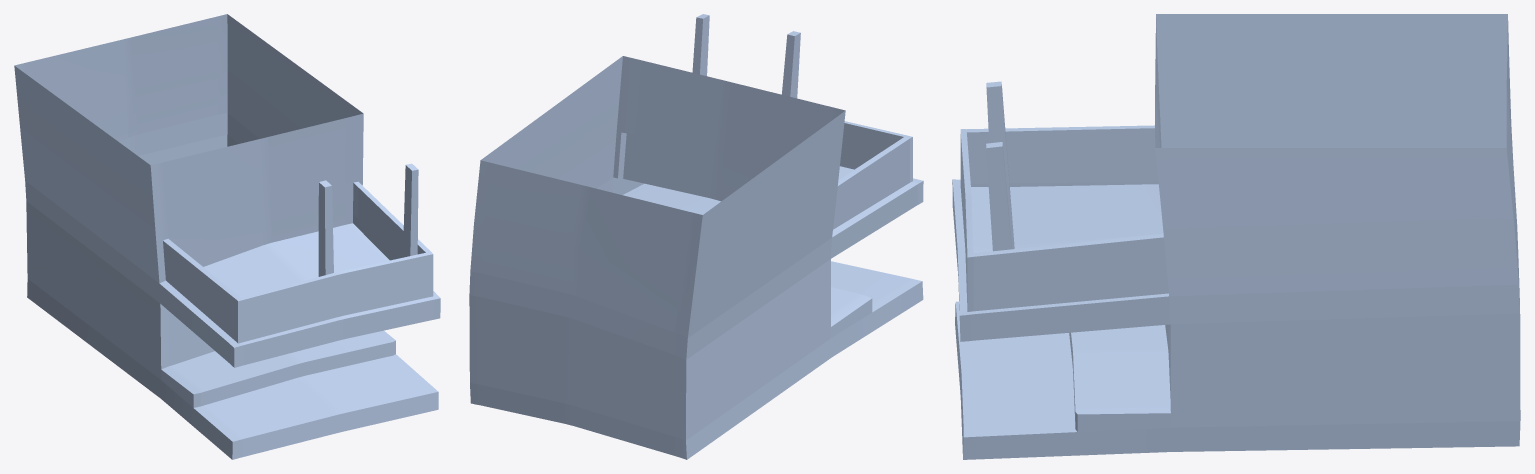
File: building 2.fbx
The picture shows the model from 3 angles, left to right: view 1: azimuth 30°, elevation 25°; view 2: azimuth 150°, elevation 25°; view 3: azimuth 270°, elevation 25°; orthographic projection. The views are drawn at different scales.
Visible parts, largest first — view 1: immeuble_5; view 2: immeuble_5; view 3: immeuble_5.
Part boxes in pixels (left/top/right/bottom): immeuble_5: left=14, top=14, right=440, bottom=459; immeuble_5: left=469, top=14, right=923, bottom=459; immeuble_5: left=952, top=14, right=1520, bottom=459.
Size of the model in its own units: 4203 by 4464 by 7353.
